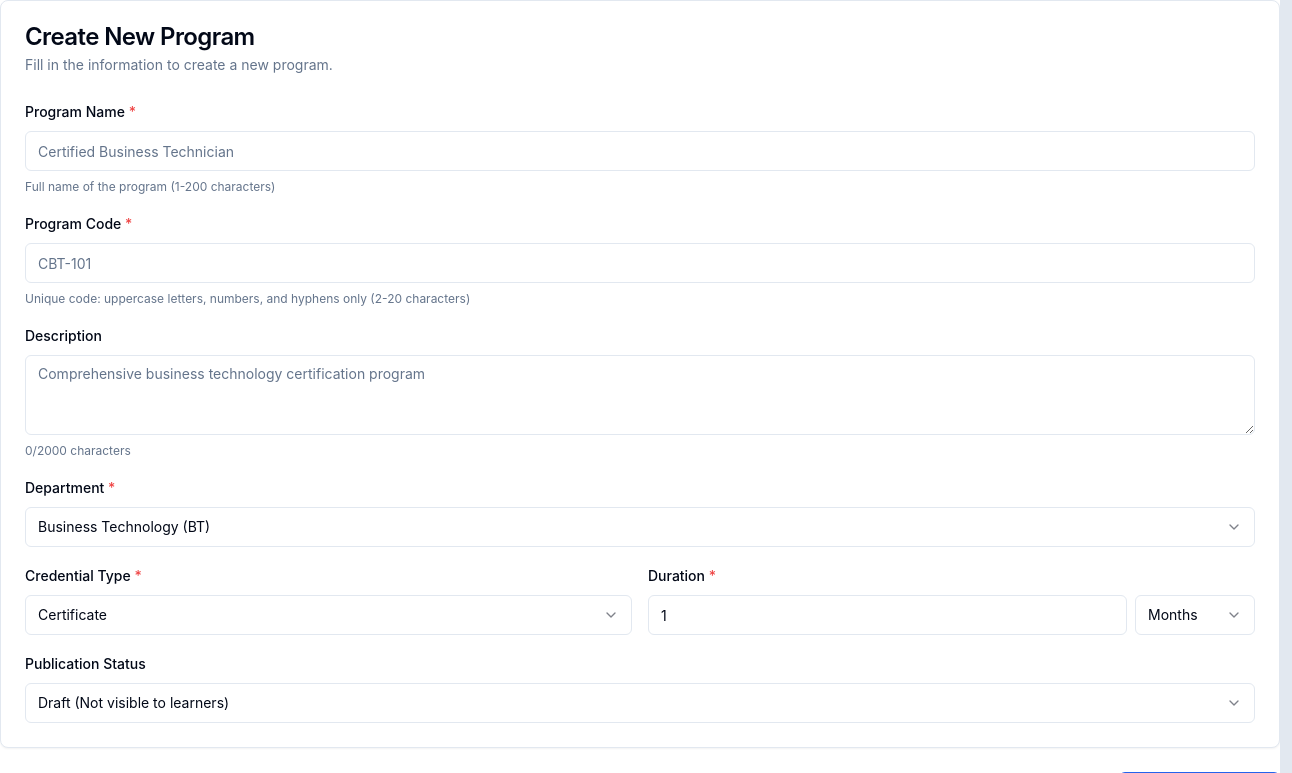
ProgramForm › Form Fields › should display character count for description
Expected: the text "0/2000 characters" is shown, x1=25 y1=443 x2=131 y2=458
In the text box labelled "Description": (640, 395) x1=25 y1=355 x2=1255 y2=435, type "Test description"
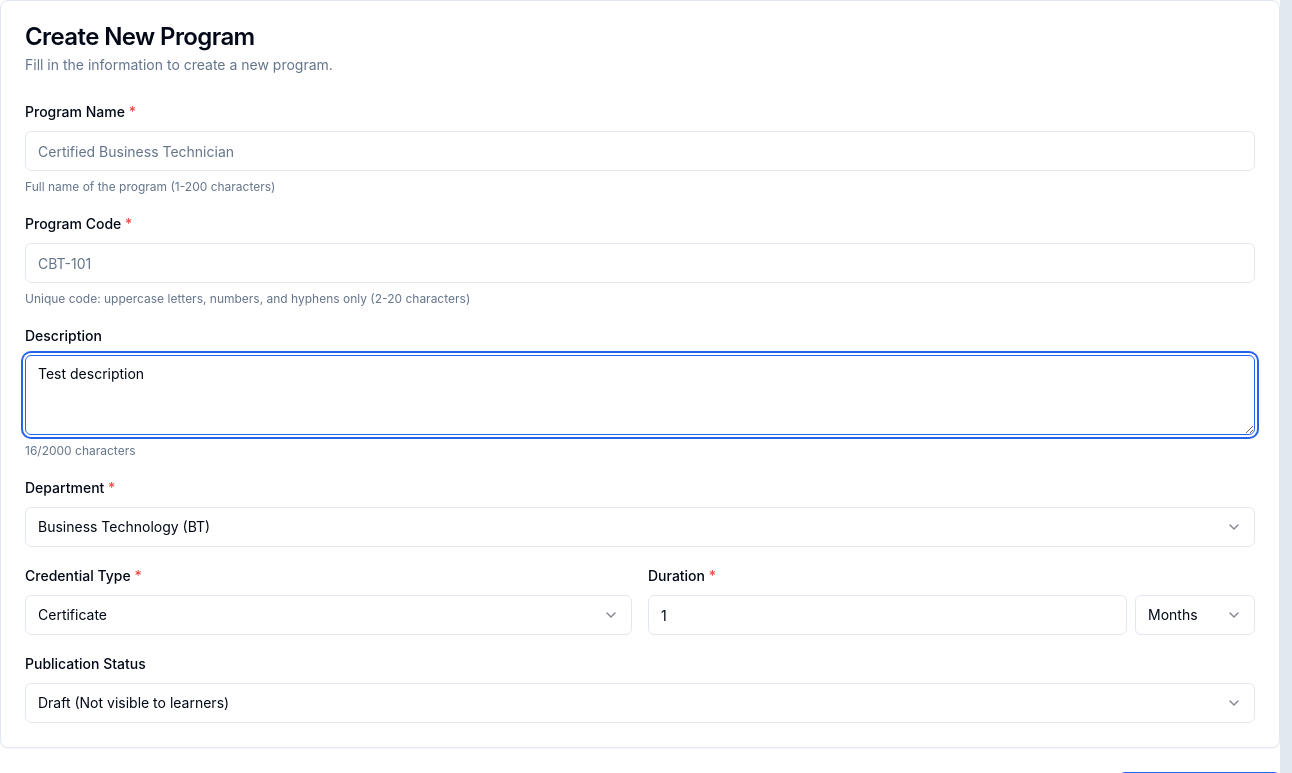
Expected: the text "16/2000 characters" is shown, x1=25 y1=443 x2=136 y2=458
